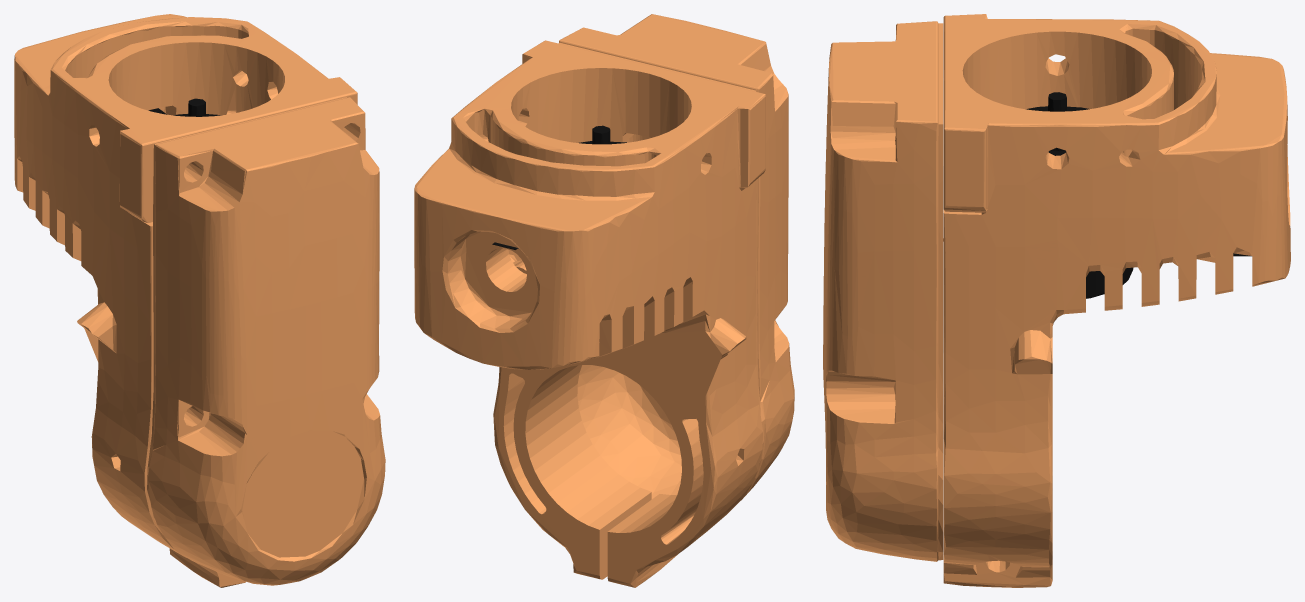
File: arm4.dae
3 renders of one model, left to right at view 1: azimuth 30°, elevation 25°; view 2: azimuth 150°, elevation 25°; view 3: azimuth 270°, elevation 25°, orthographic. The views are drawn at different scales.
Visible parts, largest first — view 1: arm4; view 2: arm4; view 3: arm4.
Part boxes in pixels (x1,y1,x2,y2): arm4: (14,14,385,587); arm4: (414,14,794,587); arm4: (823,14,1290,587).
Size of the model in its own units: 0.0669 by 0.0987 by 0.1168.
